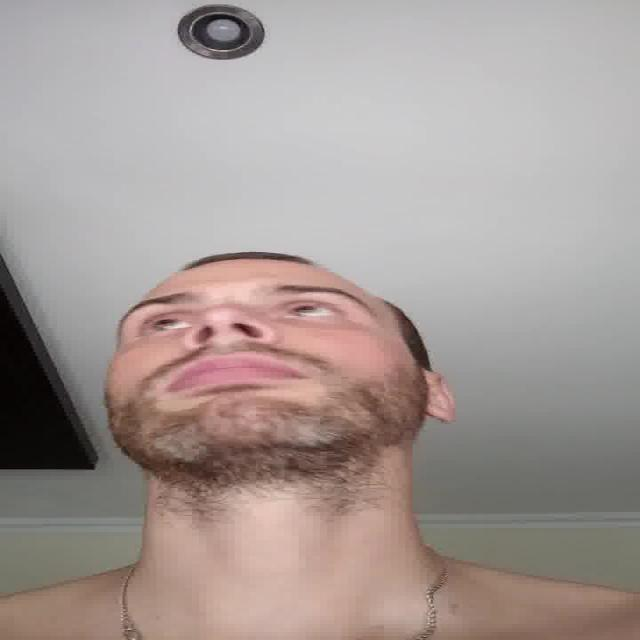earlobe: (425, 406, 461, 424)
eye: (280, 301, 344, 320), (140, 316, 190, 332)
nose: (183, 336, 274, 360)
wholeear: (424, 371, 461, 424)
